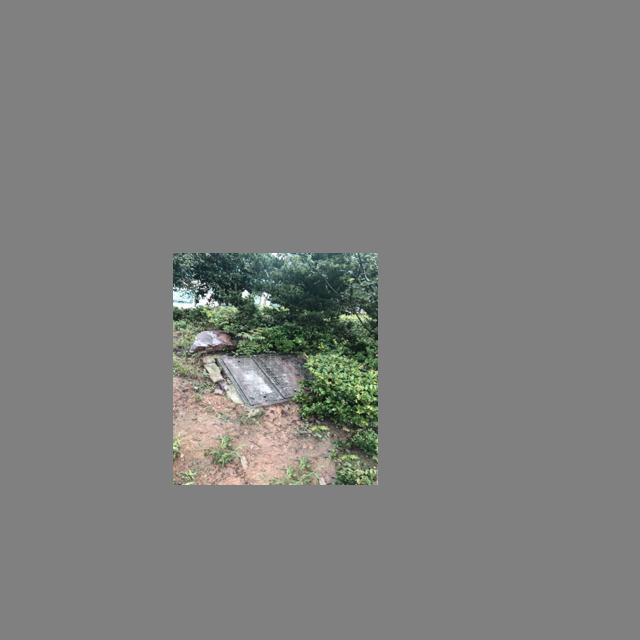good: (217, 351, 312, 407)
